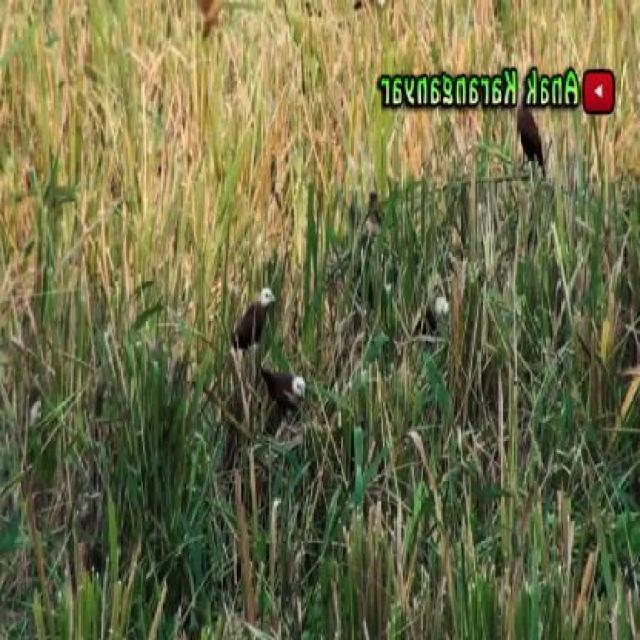Bird: (506, 102, 561, 183), (249, 360, 319, 419), (235, 276, 287, 355)
